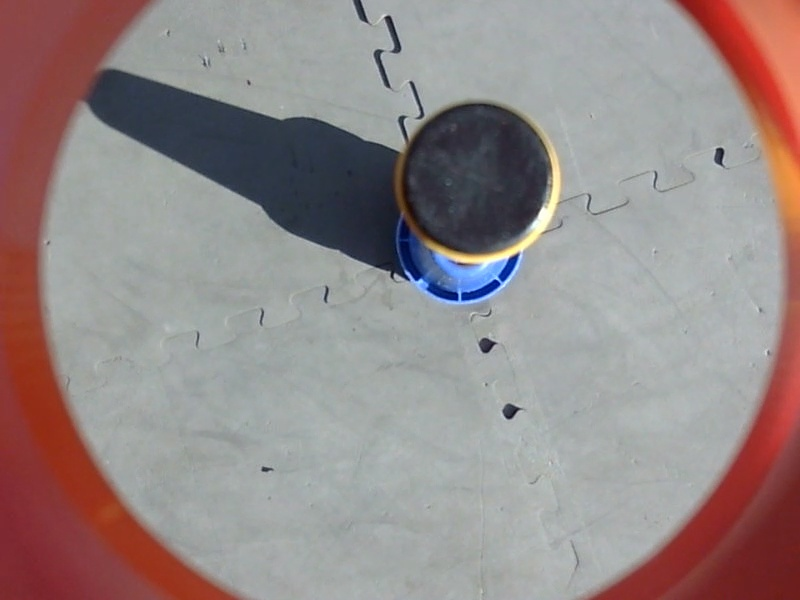tip: (389, 96, 565, 270)
